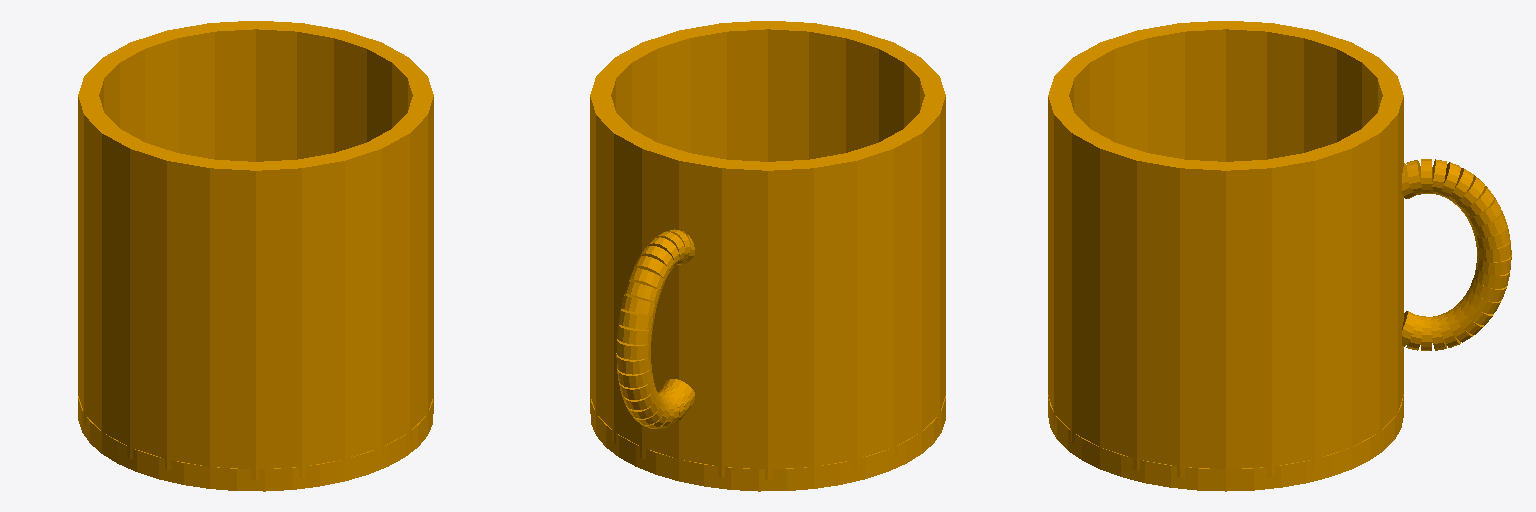
The robot description file, URDF, robot "handover_mug":
<?xml version='1.0' encoding='utf-8'?>
<robot name="handover_mug">
  <link name="body">
    <inertial>
      <origin xyz="4.8774445666486675e-18 0.00186113294303701 -0.008225925024429486" />
      <mass value="0.2" />
      <inertia ixx="0.0004301176159327511" iyy="0.0004053684454247824" izz="0.0004222319285651224" ixy="-3.5241862536282064e-21" ixz="-8.008349423116656e-22" iyz="-3.8063611871984505e-06" />
    </inertial>
    <visual>
      <geometry>
        <mesh filename="part_00.obj" />
      </geometry>
    </visual>
    <collision>
      <geometry>
        <mesh filename="part_00.obj" />
      </geometry>
    </collision>
    <visual>
      <geometry>
        <mesh filename="part_01.obj" />
      </geometry>
    </visual>
    <collision>
      <geometry>
        <mesh filename="part_01.obj" />
      </geometry>
    </collision>
    <visual>
      <geometry>
        <mesh filename="part_02.obj" />
      </geometry>
    </visual>
    <collision>
      <geometry>
        <mesh filename="part_02.obj" />
      </geometry>
    </collision>
    <visual>
      <geometry>
        <mesh filename="part_03.obj" />
      </geometry>
    </visual>
    <collision>
      <geometry>
        <mesh filename="part_03.obj" />
      </geometry>
    </collision>
    <visual>
      <geometry>
        <mesh filename="part_04.obj" />
      </geometry>
    </visual>
    <collision>
      <geometry>
        <mesh filename="part_04.obj" />
      </geometry>
    </collision>
    <visual>
      <geometry>
        <mesh filename="part_05.obj" />
      </geometry>
    </visual>
    <collision>
      <geometry>
        <mesh filename="part_05.obj" />
      </geometry>
    </collision>
    <visual>
      <geometry>
        <mesh filename="part_06.obj" />
      </geometry>
    </visual>
    <collision>
      <geometry>
        <mesh filename="part_06.obj" />
      </geometry>
    </collision>
    <visual>
      <geometry>
        <mesh filename="part_07.obj" />
      </geometry>
    </visual>
    <collision>
      <geometry>
        <mesh filename="part_07.obj" />
      </geometry>
    </collision>
    <visual>
      <geometry>
        <mesh filename="part_08.obj" />
      </geometry>
    </visual>
    <collision>
      <geometry>
        <mesh filename="part_08.obj" />
      </geometry>
    </collision>
    <visual>
      <geometry>
        <mesh filename="part_09.obj" />
      </geometry>
    </visual>
    <collision>
      <geometry>
        <mesh filename="part_09.obj" />
      </geometry>
    </collision>
    <visual>
      <geometry>
        <mesh filename="part_10.obj" />
      </geometry>
    </visual>
    <collision>
      <geometry>
        <mesh filename="part_10.obj" />
      </geometry>
    </collision>
    <visual>
      <geometry>
        <mesh filename="part_11.obj" />
      </geometry>
    </visual>
    <collision>
      <geometry>
        <mesh filename="part_11.obj" />
      </geometry>
    </collision>
    <visual>
      <geometry>
        <mesh filename="part_12.obj" />
      </geometry>
    </visual>
    <collision>
      <geometry>
        <mesh filename="part_12.obj" />
      </geometry>
    </collision>
    <visual>
      <geometry>
        <mesh filename="part_13.obj" />
      </geometry>
    </visual>
    <collision>
      <geometry>
        <mesh filename="part_13.obj" />
      </geometry>
    </collision>
    <visual>
      <geometry>
        <mesh filename="part_14.obj" />
      </geometry>
    </visual>
    <collision>
      <geometry>
        <mesh filename="part_14.obj" />
      </geometry>
    </collision>
    <visual>
      <geometry>
        <mesh filename="part_15.obj" />
      </geometry>
    </visual>
    <collision>
      <geometry>
        <mesh filename="part_15.obj" />
      </geometry>
    </collision>
    <visual>
      <geometry>
        <mesh filename="part_16.obj" />
      </geometry>
    </visual>
    <collision>
      <geometry>
        <mesh filename="part_16.obj" />
      </geometry>
    </collision>
    <visual>
      <geometry>
        <mesh filename="part_17.obj" />
      </geometry>
    </visual>
    <collision>
      <geometry>
        <mesh filename="part_17.obj" />
      </geometry>
    </collision>
    <visual>
      <geometry>
        <mesh filename="part_18.obj" />
      </geometry>
    </visual>
    <collision>
      <geometry>
        <mesh filename="part_18.obj" />
      </geometry>
    </collision>
    <visual>
      <geometry>
        <mesh filename="part_19.obj" />
      </geometry>
    </visual>
    <collision>
      <geometry>
        <mesh filename="part_19.obj" />
      </geometry>
    </collision>
    <visual>
      <geometry>
        <mesh filename="part_20.obj" />
      </geometry>
    </visual>
    <collision>
      <geometry>
        <mesh filename="part_20.obj" />
      </geometry>
    </collision>
    <visual>
      <geometry>
        <mesh filename="part_21.obj" />
      </geometry>
    </visual>
    <collision>
      <geometry>
        <mesh filename="part_21.obj" />
      </geometry>
    </collision>
    <visual>
      <geometry>
        <mesh filename="part_22.obj" />
      </geometry>
    </visual>
    <collision>
      <geometry>
        <mesh filename="part_22.obj" />
      </geometry>
    </collision>
    <visual>
      <geometry>
        <mesh filename="part_23.obj" />
      </geometry>
    </visual>
    <collision>
      <geometry>
        <mesh filename="part_23.obj" />
      </geometry>
    </collision>
    <visual>
      <geometry>
        <mesh filename="part_24.obj" />
      </geometry>
    </visual>
    <collision>
      <geometry>
        <mesh filename="part_24.obj" />
      </geometry>
    </collision>
    <visual>
      <geometry>
        <mesh filename="part_25.obj" />
      </geometry>
    </visual>
    <collision>
      <geometry>
        <mesh filename="part_25.obj" />
      </geometry>
    </collision>
    <visual>
      <geometry>
        <mesh filename="part_26.obj" />
      </geometry>
    </visual>
    <collision>
      <geometry>
        <mesh filename="part_26.obj" />
      </geometry>
    </collision>
    <visual>
      <geometry>
        <mesh filename="part_27.obj" />
      </geometry>
    </visual>
    <collision>
      <geometry>
        <mesh filename="part_27.obj" />
      </geometry>
    </collision>
    <visual>
      <geometry>
        <mesh filename="part_28.obj" />
      </geometry>
    </visual>
    <collision>
      <geometry>
        <mesh filename="part_28.obj" />
      </geometry>
    </collision>
    <visual>
      <geometry>
        <mesh filename="part_29.obj" />
      </geometry>
    </visual>
    <collision>
      <geometry>
        <mesh filename="part_29.obj" />
      </geometry>
    </collision>
    <visual>
      <geometry>
        <mesh filename="part_30.obj" />
      </geometry>
    </visual>
    <collision>
      <geometry>
        <mesh filename="part_30.obj" />
      </geometry>
    </collision>
    <visual>
      <geometry>
        <mesh filename="part_31.obj" />
      </geometry>
    </visual>
    <collision>
      <geometry>
        <mesh filename="part_31.obj" />
      </geometry>
    </collision>
    <visual>
      <geometry>
        <mesh filename="part_32.obj" />
      </geometry>
    </visual>
    <collision>
      <geometry>
        <mesh filename="part_32.obj" />
      </geometry>
    </collision>
    <visual>
      <geometry>
        <mesh filename="part_33.obj" />
      </geometry>
    </visual>
    <collision>
      <geometry>
        <mesh filename="part_33.obj" />
      </geometry>
    </collision>
    <visual>
      <geometry>
        <mesh filename="part_34.obj" />
      </geometry>
    </visual>
    <collision>
      <geometry>
        <mesh filename="part_34.obj" />
      </geometry>
    </collision>
    <visual>
      <geometry>
        <mesh filename="part_35.obj" />
      </geometry>
    </visual>
    <collision>
      <geometry>
        <mesh filename="part_35.obj" />
      </geometry>
    </collision>
    <visual>
      <geometry>
        <mesh filename="part_36.obj" />
      </geometry>
    </visual>
    <collision>
      <geometry>
        <mesh filename="part_36.obj" />
      </geometry>
    </collision>
    <visual>
      <geometry>
        <mesh filename="part_37.obj" />
      </geometry>
    </visual>
    <collision>
      <geometry>
        <mesh filename="part_37.obj" />
      </geometry>
    </collision>
    <visual>
      <geometry>
        <mesh filename="part_38.obj" />
      </geometry>
    </visual>
    <collision>
      <geometry>
        <mesh filename="part_38.obj" />
      </geometry>
    </collision>
    <visual>
      <geometry>
        <mesh filename="part_39.obj" />
      </geometry>
    </visual>
    <collision>
      <geometry>
        <mesh filename="part_39.obj" />
      </geometry>
    </collision>
    <visual>
      <geometry>
        <mesh filename="part_40.obj" />
      </geometry>
    </visual>
    <collision>
      <geometry>
        <mesh filename="part_40.obj" />
      </geometry>
    </collision>
    <visual>
      <geometry>
        <mesh filename="part_41.obj" />
      </geometry>
    </visual>
    <collision>
      <geometry>
        <mesh filename="part_41.obj" />
      </geometry>
    </collision>
    <visual>
      <geometry>
        <mesh filename="part_42.obj" />
      </geometry>
    </visual>
    <collision>
      <geometry>
        <mesh filename="part_42.obj" />
      </geometry>
    </collision>
    <visual>
      <geometry>
        <mesh filename="part_43.obj" />
      </geometry>
    </visual>
    <collision>
      <geometry>
        <mesh filename="part_43.obj" />
      </geometry>
    </collision>
    <visual>
      <geometry>
        <mesh filename="part_44.obj" />
      </geometry>
    </visual>
    <collision>
      <geometry>
        <mesh filename="part_44.obj" />
      </geometry>
    </collision>
    <visual>
      <geometry>
        <mesh filename="part_45.obj" />
      </geometry>
    </visual>
    <collision>
      <geometry>
        <mesh filename="part_45.obj" />
      </geometry>
    </collision>
    <visual>
      <geometry>
        <mesh filename="part_46.obj" />
      </geometry>
    </visual>
    <collision>
      <geometry>
        <mesh filename="part_46.obj" />
      </geometry>
    </collision>
    <visual>
      <geometry>
        <mesh filename="part_47.obj" />
      </geometry>
    </visual>
    <collision>
      <geometry>
        <mesh filename="part_47.obj" />
      </geometry>
    </collision>
    <visual>
      <geometry>
        <mesh filename="part_48.obj" />
      </geometry>
    </visual>
    <collision>
      <geometry>
        <mesh filename="part_48.obj" />
      </geometry>
    </collision>
  </link>
</robot>

--- What the picture shows (computed from the rendered views, not written in the file) ---
Views: 3 orthographic renders of the robot side by side, from view 1: azimuth 30°, elevation 25°; view 2: azimuth 150°, elevation 25°; view 3: azimuth 270°, elevation 25°.
Model handover_mug with 1 links and 0 joints (none), rooted at body, posed all joints at 0.
Visible links, largest first — view 1: body; view 2: body; view 3: body.
Link boxes in pixels (box(x1,y1,x2,y2)): body: box(78, 21, 433, 491); body: box(590, 21, 945, 491); body: box(1048, 21, 1511, 491).
Size in the robot's own frame: 0.102 by 0.133 by 0.1015 metres.
Meshes: 49 distinct files referenced, 49 mesh visuals loaded (49 OBJ).
